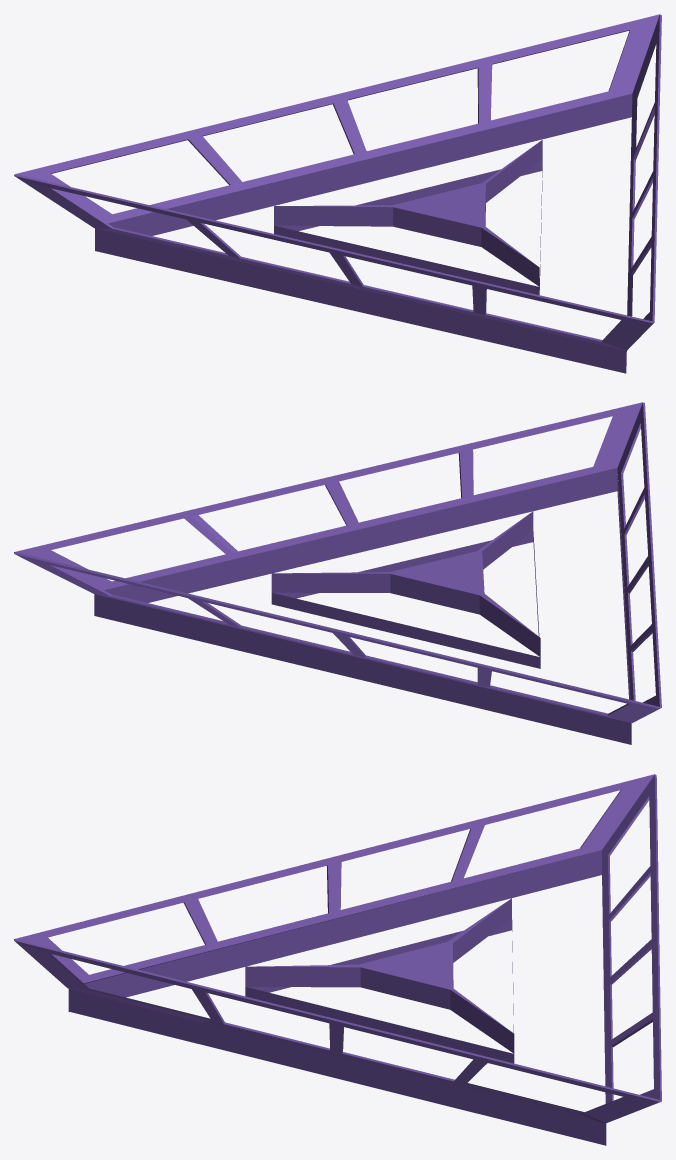
The model's file is triangle_barge_translucent_floor.glb.
3 views of the same model, one above another, from view 1: azimuth 30°, elevation 25°; view 2: azimuth 150°, elevation 25°; view 3: azimuth 270°, elevation 25° (orthographic). The views are drawn at different scales.
Parts seen in each view (by area): view 1: Plane; view 2: Plane; view 3: Plane.
Part boxes in pixels (x1,y1,x2,y2): Plane: [14, 14, 661, 373]; Plane: [14, 402, 661, 744]; Plane: [14, 774, 661, 1145].
Size of the model in its own units: 39.95 by 4.18 by 33.41.
